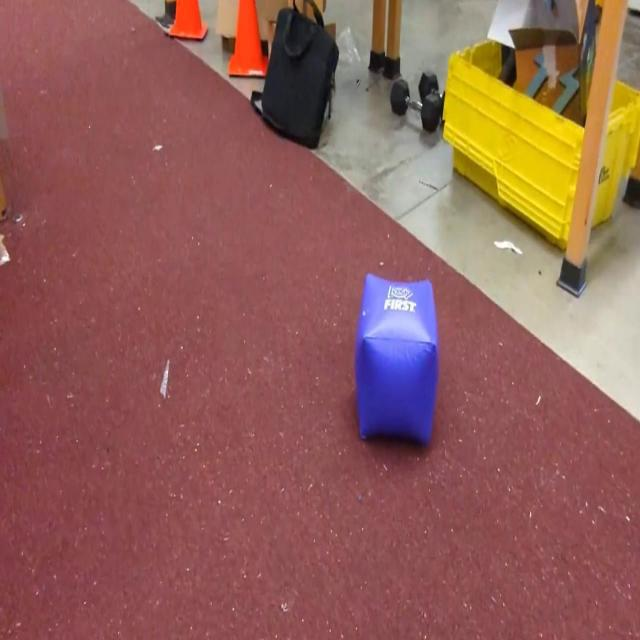frc_cube: (354, 274, 438, 448)
